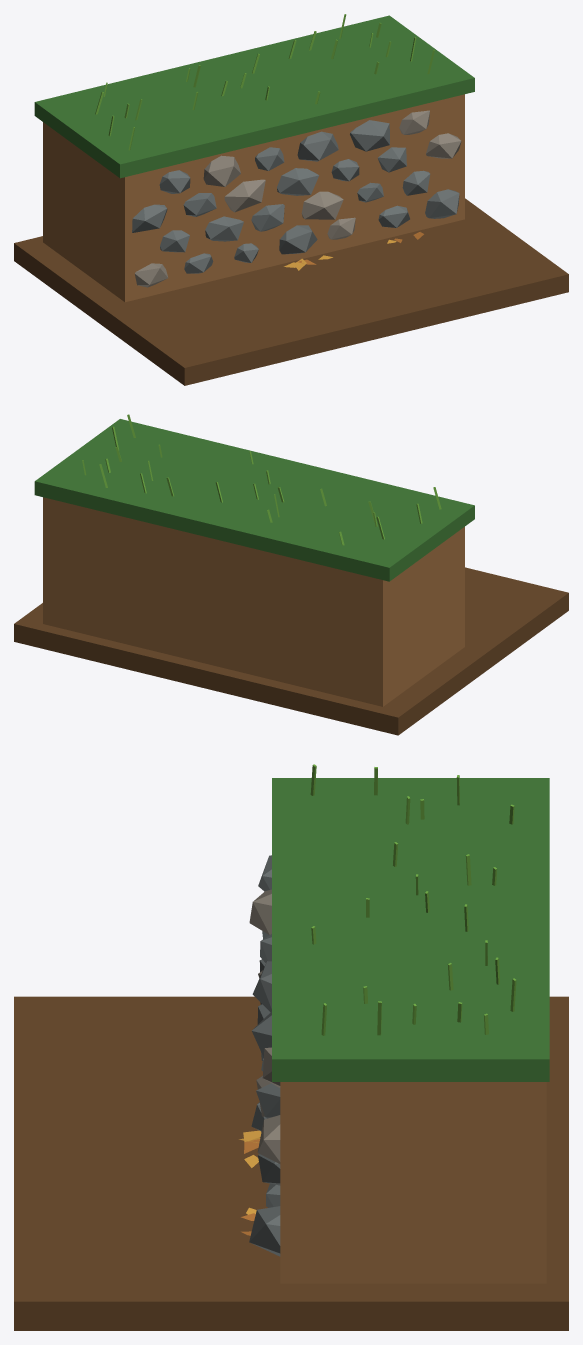
The model's file is dirt_cliff.glb.
3 renders of one model, top to bottom at view 1: azimuth 30°, elevation 25°; view 2: azimuth 150°, elevation 25°; view 3: azimuth 270°, elevation 25°, orthographic. The views are drawn at different scales.
Visible parts, largest first — view 1: TerrainBase, CliffMass, CliffTop, CliffFace.024, CliffFace.010, CliffFace.016, CliffFace.023, CliffFace.015, CliffFace.021, CliffFace.003, CliffFace.006, CliffFace.008 (+14 smaller); view 2: CliffMass, CliffTop, TerrainBase; view 3: TerrainBase, CliffTop, CliffMass, CliffFace.006, CliffFace.019, CliffFace.021.
Boxes of the visible parts, left/top/right/bottom form: TerrainBase: left=14, top=198, right=568, bottom=385; CliffMass: left=43, top=94, right=464, bottom=302; CliffTop: left=34, top=15, right=474, bottom=178; CliffFace.024: left=350, top=120, right=389, bottom=151; CliffFace.010: left=301, top=191, right=343, bottom=219; CliffFace.016: left=277, top=168, right=319, bottom=195; CliffFace.023: left=297, top=131, right=338, bottom=161; CliffFace.015: left=224, top=179, right=265, bottom=212; CliffFace.021: left=203, top=155, right=240, bottom=186; CliffFace.003: left=279, top=225, right=317, bottom=254; CliffFace.006: left=425, top=189, right=459, bottom=218; CliffFace.008: left=205, top=216, right=243, bottom=241; CliffMass: left=43, top=497, right=464, bottom=706; CliffTop: left=34, top=419, right=474, bottom=581; TerrainBase: left=14, top=567, right=568, bottom=735; TerrainBase: left=14, top=996, right=568, bottom=1330; CliffTop: left=272, top=778, right=549, bottom=1081; CliffMass: left=280, top=1082, right=546, bottom=1283; CliffFace.006: left=249, top=1206, right=280, bottom=1256; CliffFace.019: left=257, top=1115, right=280, bottom=1163; CliffFace.021: left=249, top=889, right=271, bottom=934.
Size of the model in its own units: 13 by 5.9 by 10.
